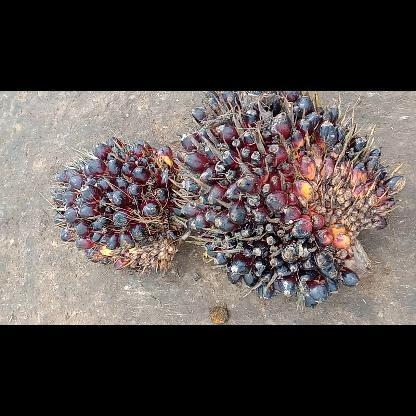TBS mentah: (178, 92, 404, 308), (48, 136, 188, 272)
